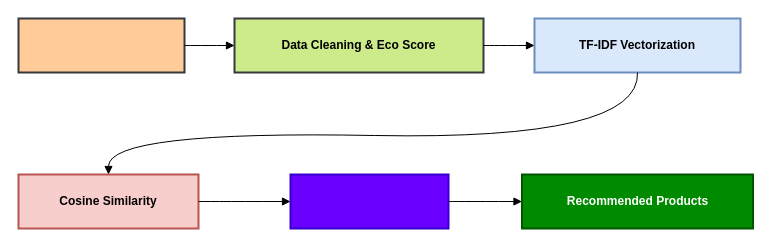
Some shapes in this 771 by 246 pixel diagram are drawn without their labels. The box of each missing label's shape, as (x1, y1, x2, y2) in pixels:
Dataset: (17, 17, 185, 73)
Streamlit App: (289, 173, 449, 229)
